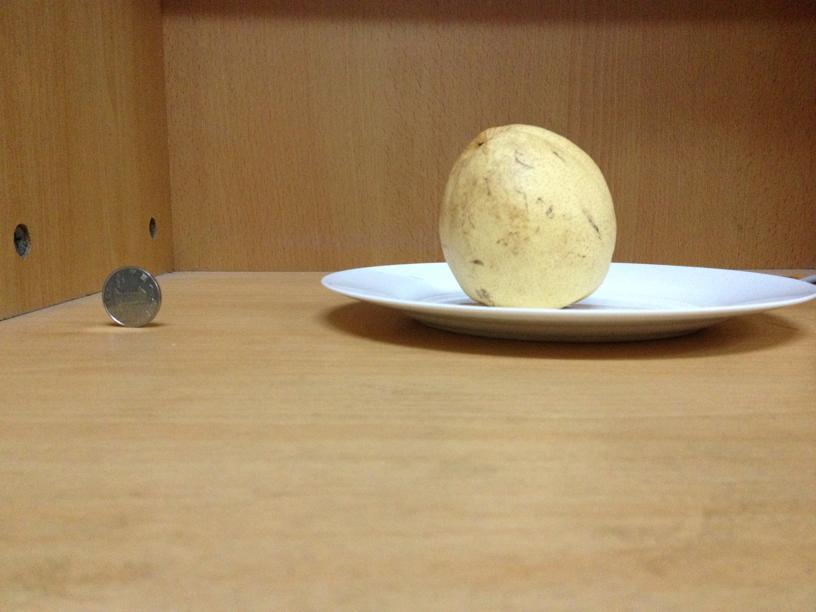coin: (102, 268, 163, 326)
pear: (441, 123, 618, 307)
